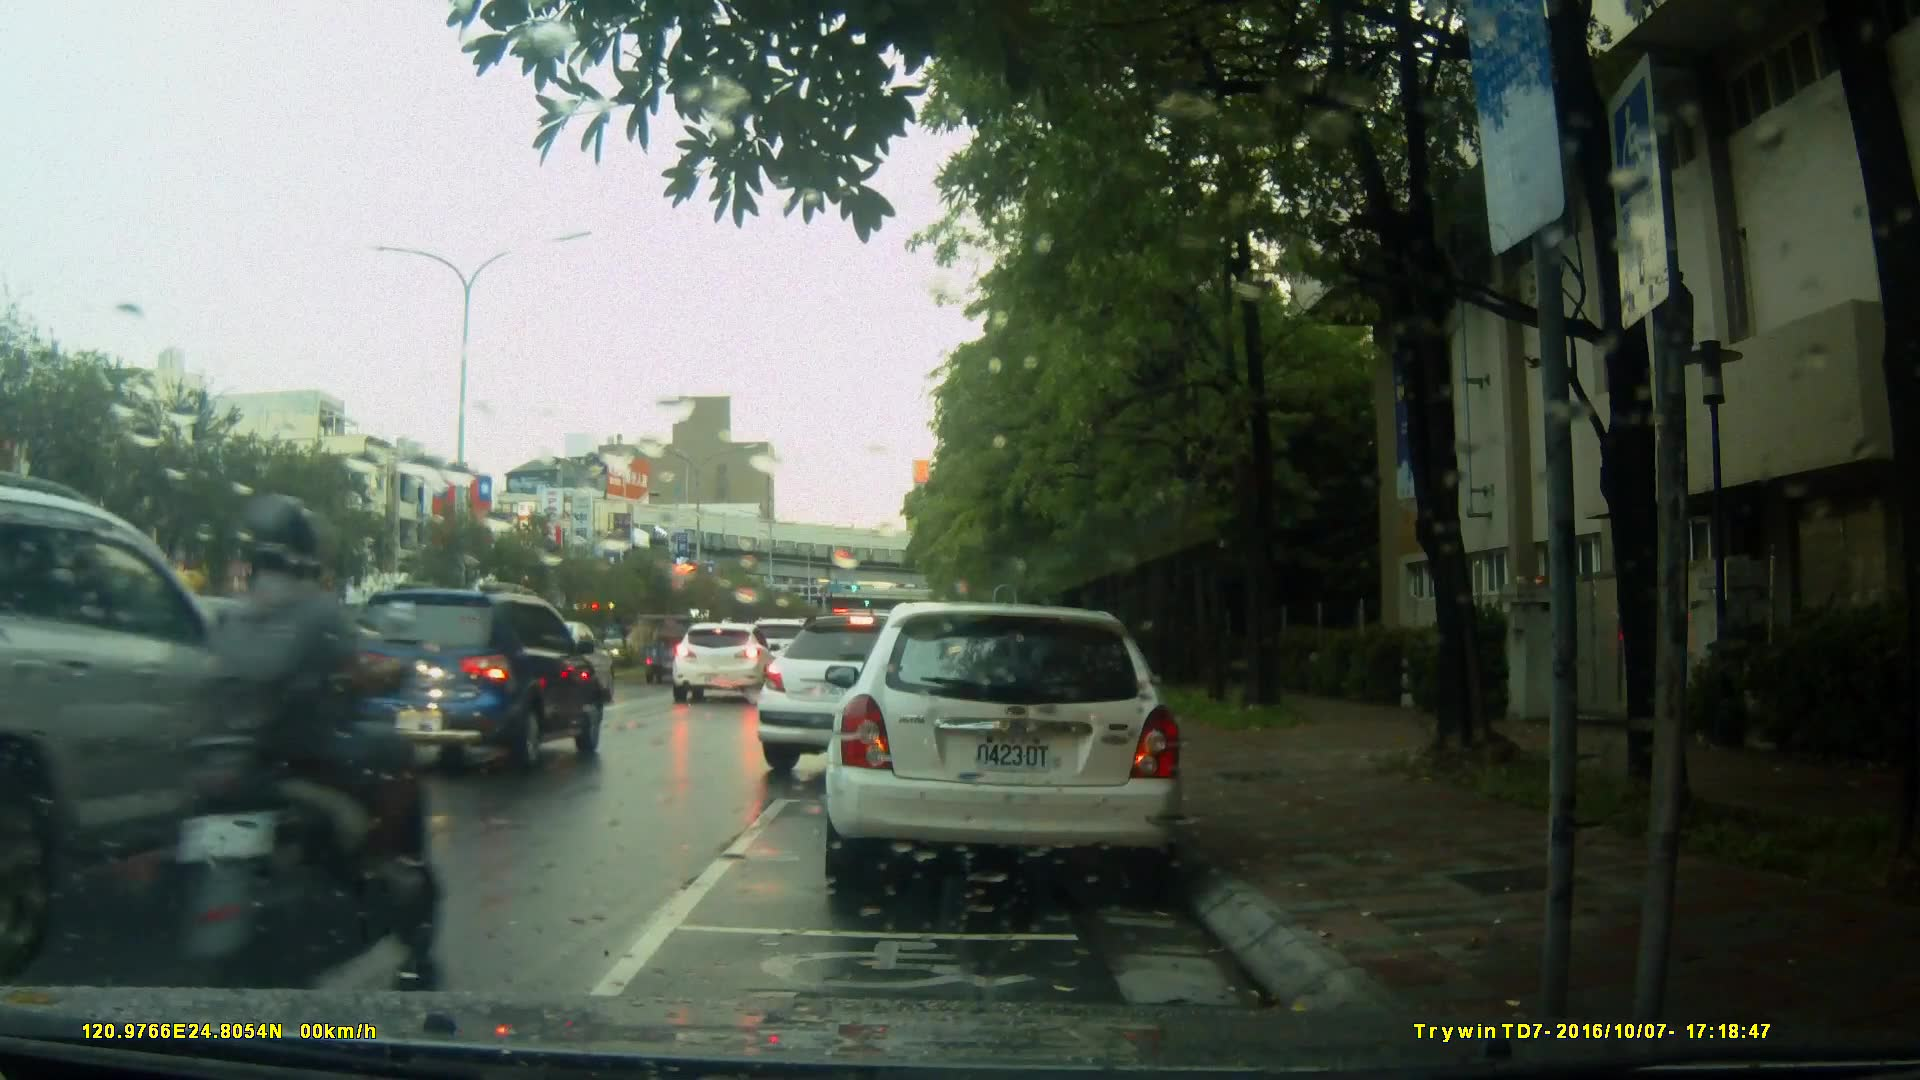rider: (180, 490, 450, 1009)
vehicle: (1, 470, 331, 962), (820, 602, 1188, 898), (336, 581, 608, 771), (749, 612, 1028, 784), (671, 620, 774, 705)
